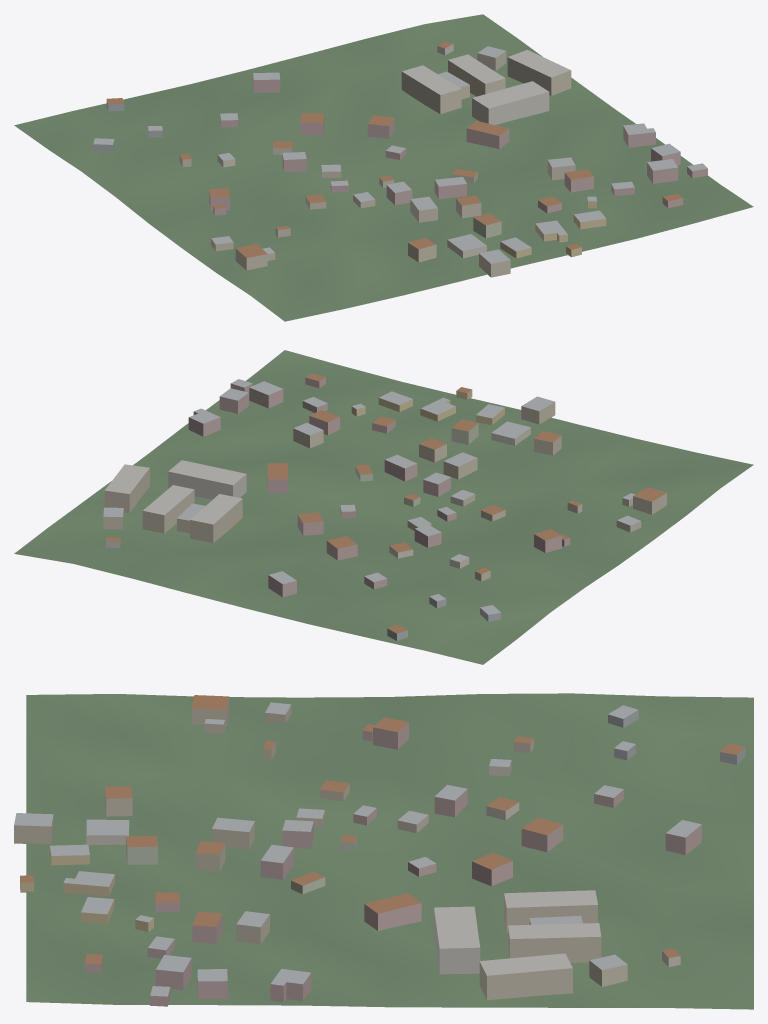
3 renders of one model, top to bottom at view 1: azimuth 30°, elevation 25°; view 2: azimuth 150°, elevation 25°; view 3: azimuth 270°, elevation 25°, orthographic. The views are drawn at different scales.
Parts seen in each view (by area): view 1: Lo; view 2: Lo; view 3: Lo.
Boxes of the visible parts, x1,y1,x2,y2 form: Lo: (14,14,753,321); Lo: (14,350,753,664); Lo: (14,693,753,1009).
Bounding box in the file's own units: 257 × 11.19 × 260.
